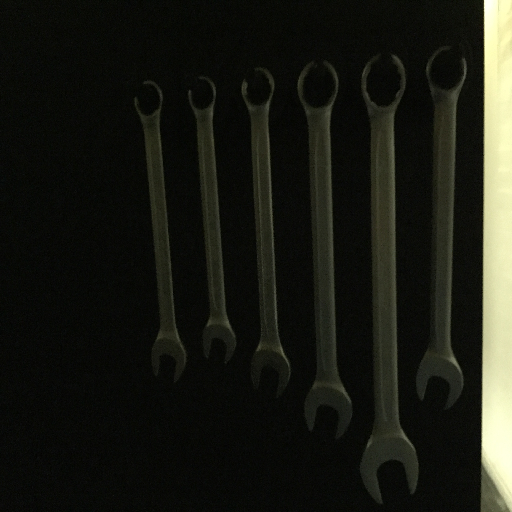bottom: (360, 430, 421, 505), (303, 381, 354, 443), (414, 348, 465, 409), (248, 345, 292, 399), (147, 330, 189, 385), (201, 317, 237, 366)
top: (360, 49, 408, 117), (295, 55, 342, 119), (423, 43, 469, 102), (239, 65, 278, 116), (131, 77, 166, 124), (185, 74, 219, 120)
